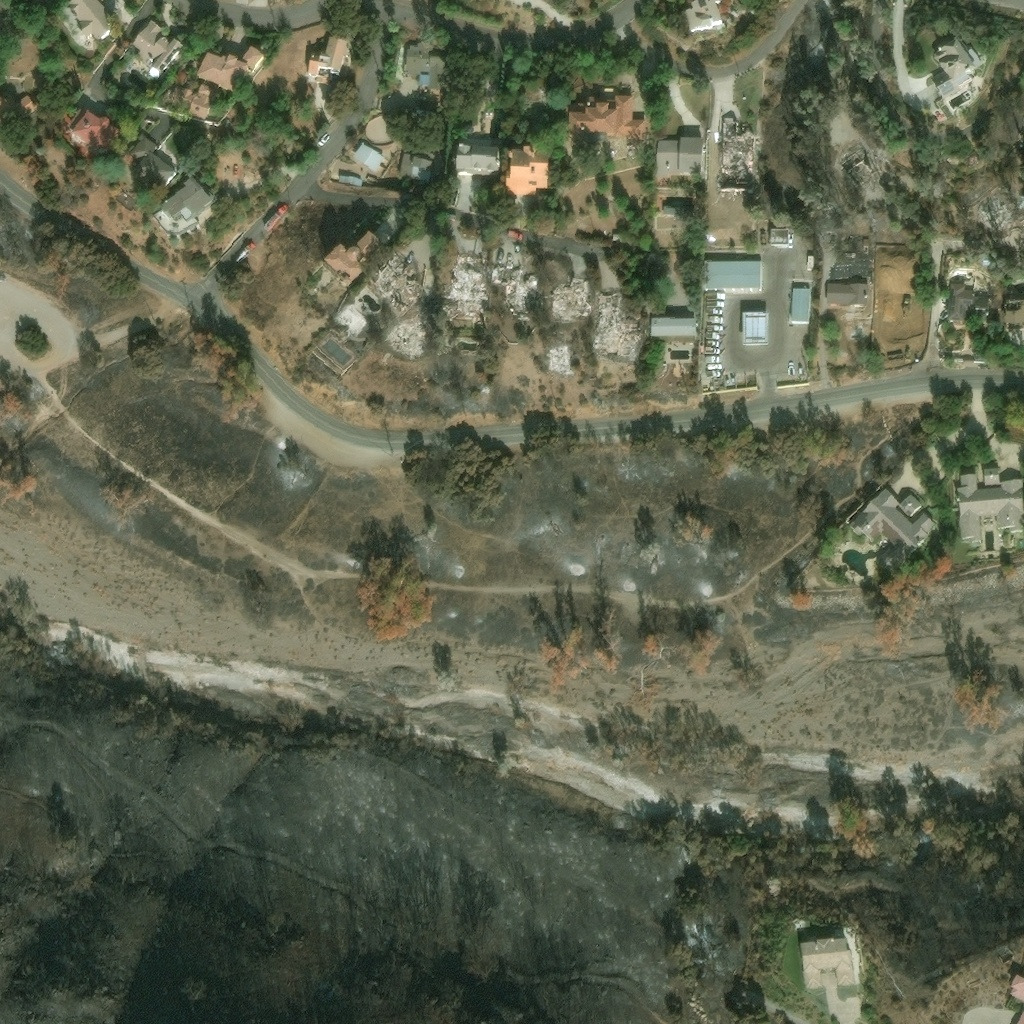0 no-damage: (848, 488, 937, 577), (108, 18, 187, 86), (957, 476, 1023, 541), (151, 177, 215, 236), (568, 94, 646, 142), (197, 44, 267, 96), (929, 35, 982, 100), (128, 135, 178, 192), (800, 938, 855, 989), (506, 146, 551, 198), (67, 109, 121, 152), (405, 39, 443, 100), (308, 32, 350, 84), (69, 0, 119, 42), (323, 244, 366, 292), (706, 261, 763, 292), (950, 282, 989, 323), (456, 143, 500, 177), (684, 0, 723, 35), (0, 93, 37, 129), (181, 83, 214, 121), (824, 281, 868, 307), (679, 136, 704, 179), (651, 318, 697, 341), (401, 149, 433, 180), (353, 141, 386, 171), (657, 139, 680, 179), (743, 312, 769, 344), (791, 287, 812, 324), (998, 299, 1023, 330), (354, 231, 381, 258), (899, 494, 923, 519), (1010, 971, 1023, 1002), (983, 469, 1000, 487), (664, 206, 691, 215), (341, 175, 362, 185), (824, 233, 838, 247)
1 minor-damage: (770, 227, 789, 248)
3 destroyed: (367, 254, 419, 314), (597, 292, 641, 358), (442, 254, 486, 316), (717, 122, 754, 192), (836, 143, 877, 190), (503, 275, 539, 321), (978, 198, 1011, 229), (551, 286, 584, 309), (495, 262, 523, 285), (404, 324, 428, 350), (390, 326, 408, 344), (551, 349, 566, 364), (421, 300, 434, 309), (1011, 242, 1021, 249), (983, 261, 991, 267), (1019, 205, 1023, 211)
